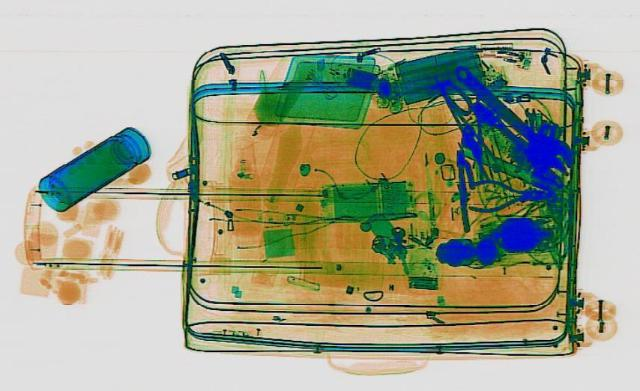Pliers: (463, 178, 552, 211)
Wrench: (434, 58, 590, 180)
